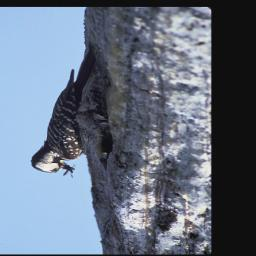Woodpecker: (30, 41, 113, 180)
